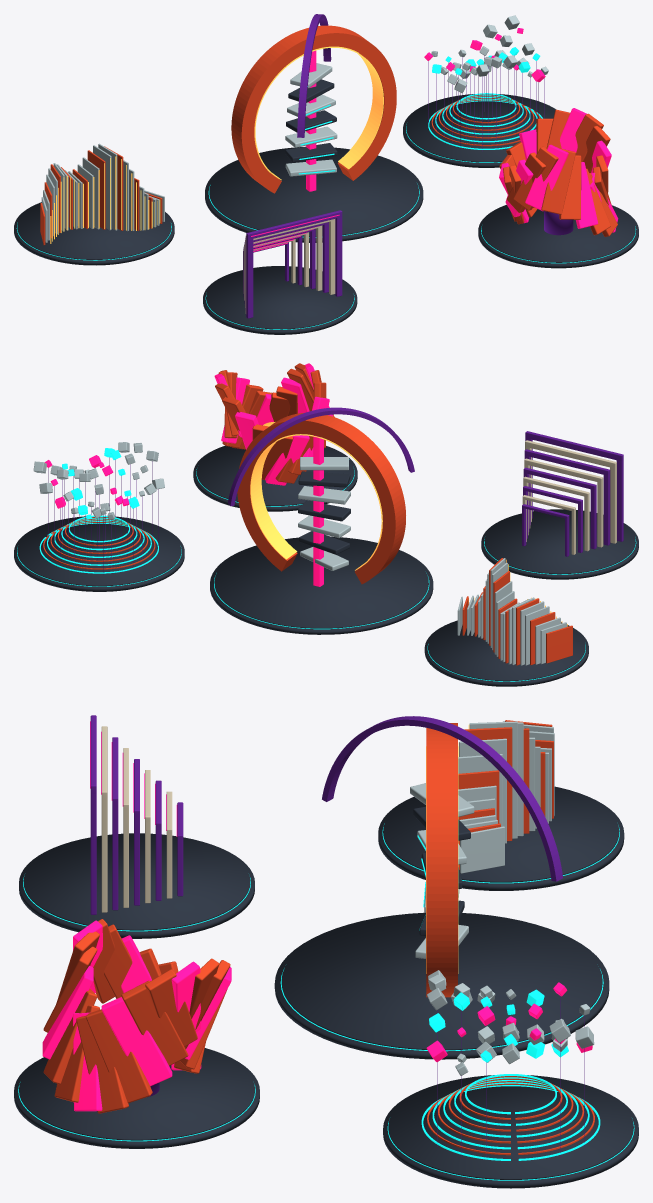
The model's file is three-gorges.glb.
The picture shows the model from 3 angles, top to bottom: view 1: azimuth 30°, elevation 25°; view 2: azimuth 150°, elevation 25°; view 3: azimuth 270°, elevation 25°; orthographic projection. The views are drawn at different scales.
Visible parts, largest first — view 1: 01_MEMORY_APERTURE / Obsidian / satin charcoal, 01_MEMORY_APERTURE / Electric vermilion, 05_PHASE_BLOOM / Electric vermilion, 04_ECHO_CHAMBER / Obsidian / satin charcoal, 03_DATA_CLOUD / Obsidian / satin charcoal, 05_PHASE_BLOOM / Obsidian / satin charcoal, 02_RESONANCE_GARDEN / Obsidian / satin charcoal, 02_RESONANCE_GARDEN / Brushed titanium, 04_ECHO_CHAMBER / Deep amethyst, 05_PHASE_BLOOM / Ultraviolet pink, 02_RESONANCE_GARDEN / Electric vermilion, 04_ECHO_CHAMBER / Ceramic ivory (+13 smaller); view 2: 01_MEMORY_APERTURE / Obsidian / satin charcoal, 03_DATA_CLOUD / Obsidian / satin charcoal, 01_MEMORY_APERTURE / Electric vermilion, 04_ECHO_CHAMBER / Obsidian / satin charcoal, 02_RESONANCE_GARDEN / Obsidian / satin charcoal, 04_ECHO_CHAMBER / Deep amethyst, 05_PHASE_BLOOM / Electric vermilion, 02_RESONANCE_GARDEN / Brushed titanium, 05_PHASE_BLOOM / Obsidian / satin charcoal, 04_ECHO_CHAMBER / Ceramic ivory, 02_RESONANCE_GARDEN / Electric vermilion, 05_PHASE_BLOOM / Ultraviolet pink (+9 smaller); view 3: 01_MEMORY_APERTURE / Obsidian / satin charcoal, 03_DATA_CLOUD / Obsidian / satin charcoal, 05_PHASE_BLOOM / Electric vermilion, 04_ECHO_CHAMBER / Obsidian / satin charcoal, 05_PHASE_BLOOM / Obsidian / satin charcoal, 02_RESONANCE_GARDEN / Obsidian / satin charcoal, 05_PHASE_BLOOM / Ultraviolet pink, 01_MEMORY_APERTURE / Electric vermilion, 02_RESONANCE_GARDEN / Brushed titanium, 03_DATA_CLOUD / Signal cyan, 04_ECHO_CHAMBER / Deep amethyst, 01_MEMORY_APERTURE / Deep amethyst (+6 smaller).
Boxes of the visible parts, left/top/right/bottom form: 01_MEMORY_APERTURE / Obsidian / satin charcoal: left=205, top=79, right=423, bottom=242; 01_MEMORY_APERTURE / Electric vermilion: left=231, top=25, right=396, bottom=193; 05_PHASE_BLOOM / Electric vermilion: left=499, top=109, right=617, bottom=236; 04_ECHO_CHAMBER / Obsidian / satin charcoal: left=203, top=266, right=357, bottom=334; 03_DATA_CLOUD / Obsidian / satin charcoal: left=403, top=94, right=555, bottom=167; 05_PHASE_BLOOM / Obsidian / satin charcoal: left=478, top=205, right=638, bottom=268; 02_RESONANCE_GARDEN / Obsidian / satin charcoal: left=14, top=202, right=174, bottom=265; 02_RESONANCE_GARDEN / Brushed titanium: left=41, top=143, right=164, bottom=242; 04_ECHO_CHAMBER / Deep amethyst: left=243, top=210, right=342, bottom=318; 05_PHASE_BLOOM / Ultraviolet pink: left=499, top=108, right=618, bottom=232; 02_RESONANCE_GARDEN / Electric vermilion: left=40, top=146, right=162, bottom=245; 04_ECHO_CHAMBER / Ceramic ivory: left=243, top=219, right=335, bottom=313; 01_MEMORY_APERTURE / Obsidian / satin charcoal: left=210, top=471, right=433, bottom=634; 03_DATA_CLOUD / Obsidian / satin charcoal: left=14, top=516, right=184, bottom=591; 01_MEMORY_APERTURE / Electric vermilion: left=237, top=413, right=405, bottom=584; 04_ECHO_CHAMBER / Obsidian / satin charcoal: left=481, top=509, right=638, bottom=579; 02_RESONANCE_GARDEN / Obsidian / satin charcoal: left=424, top=620, right=588, bottom=686; 04_ECHO_CHAMBER / Deep amethyst: left=522, top=431, right=623, bottom=556; 05_PHASE_BLOOM / Electric vermilion: left=215, top=363, right=334, bottom=483; 02_RESONANCE_GARDEN / Brushed titanium: left=457, top=558, right=566, bottom=665; 05_PHASE_BLOOM / Obsidian / satin charcoal: left=193, top=445, right=357, bottom=511; 04_ECHO_CHAMBER / Ceramic ivory: left=522, top=440, right=616, bottom=554; 02_RESONANCE_GARDEN / Electric vermilion: left=462, top=558, right=572, bottom=665; 05_PHASE_BLOOM / Ultraviolet pink: left=214, top=363, right=332, bottom=485; 01_MEMORY_APERTURE / Obsidian / satin charcoal: left=274, top=806, right=609, bottom=1059; 03_DATA_CLOUD / Obsidian / satin charcoal: left=383, top=1075, right=638, bottom=1188; 05_PHASE_BLOOM / Electric vermilion: left=43, top=919, right=230, bottom=1113; 04_ECHO_CHAMBER / Obsidian / satin charcoal: left=19, top=833, right=254, bottom=938; 05_PHASE_BLOOM / Obsidian / satin charcoal: left=14, top=1048, right=259, bottom=1148; 02_RESONANCE_GARDEN / Obsidian / satin charcoal: left=378, top=786, right=624, bottom=890; 05_PHASE_BLOOM / Ultraviolet pink: left=42, top=920, right=231, bottom=1111; 01_MEMORY_APERTURE / Electric vermilion: left=426, top=723, right=457, bottom=997; 02_RESONANCE_GARDEN / Brushed titanium: left=458, top=721, right=554, bottom=873; 03_DATA_CLOUD / Signal cyan: left=387, top=989, right=634, bottom=1180; 04_ECHO_CHAMBER / Deep amethyst: left=90, top=715, right=183, bottom=914; 01_MEMORY_APERTURE / Deep amethyst: left=322, top=716, right=562, bottom=881.
Size of the model in its own units: 96.5 by 29.75 by 63.5.
